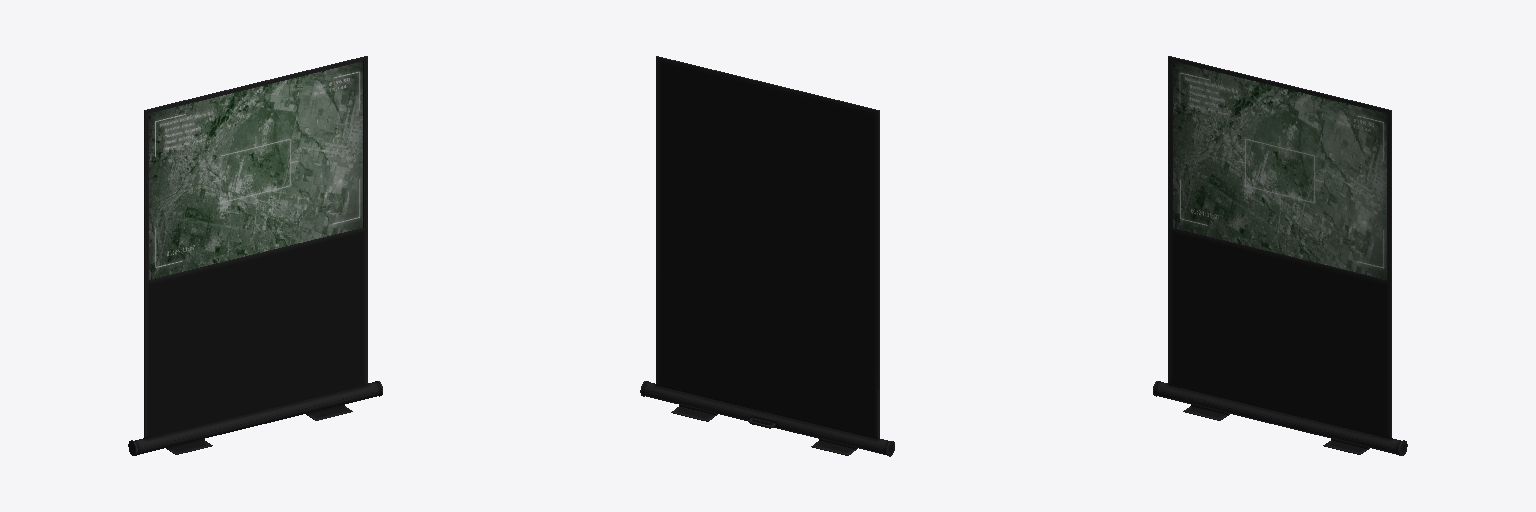
3 renders of one model, left to right at view 1: azimuth 30°, elevation 25°; view 2: azimuth 150°, elevation 25°; view 3: azimuth 330°, elevation 25°, orthographic.
Visible parts, largest first — view 1: Object_4; view 2: Object_4; view 3: Object_4.
Boxes of the visible parts, x1=… form: Object_4: x1=128, y1=56, x2=382, y2=455; Object_4: x1=640, y1=56, x2=894, y2=456; Object_4: x1=1153, y1=56, x2=1407, y2=455.
Bounding box in the file's own units: 2 × 2.67 × 0.2344.
1 materials, 1 textured.